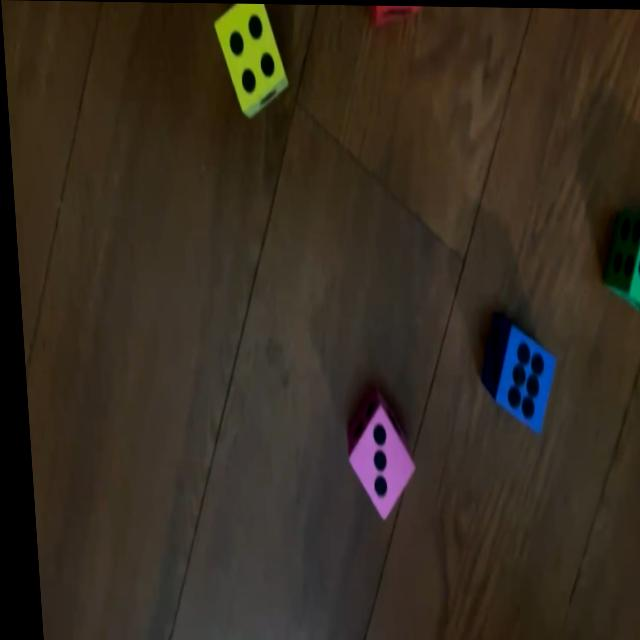cube: (471, 310, 555, 435), (595, 210, 640, 327), (368, 4, 427, 29)
